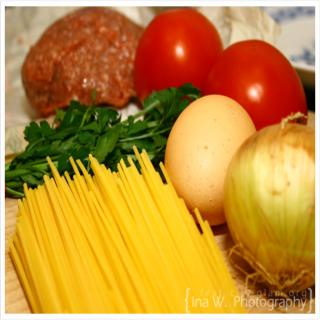tomato: (133, 10, 223, 109), (210, 42, 303, 127)
